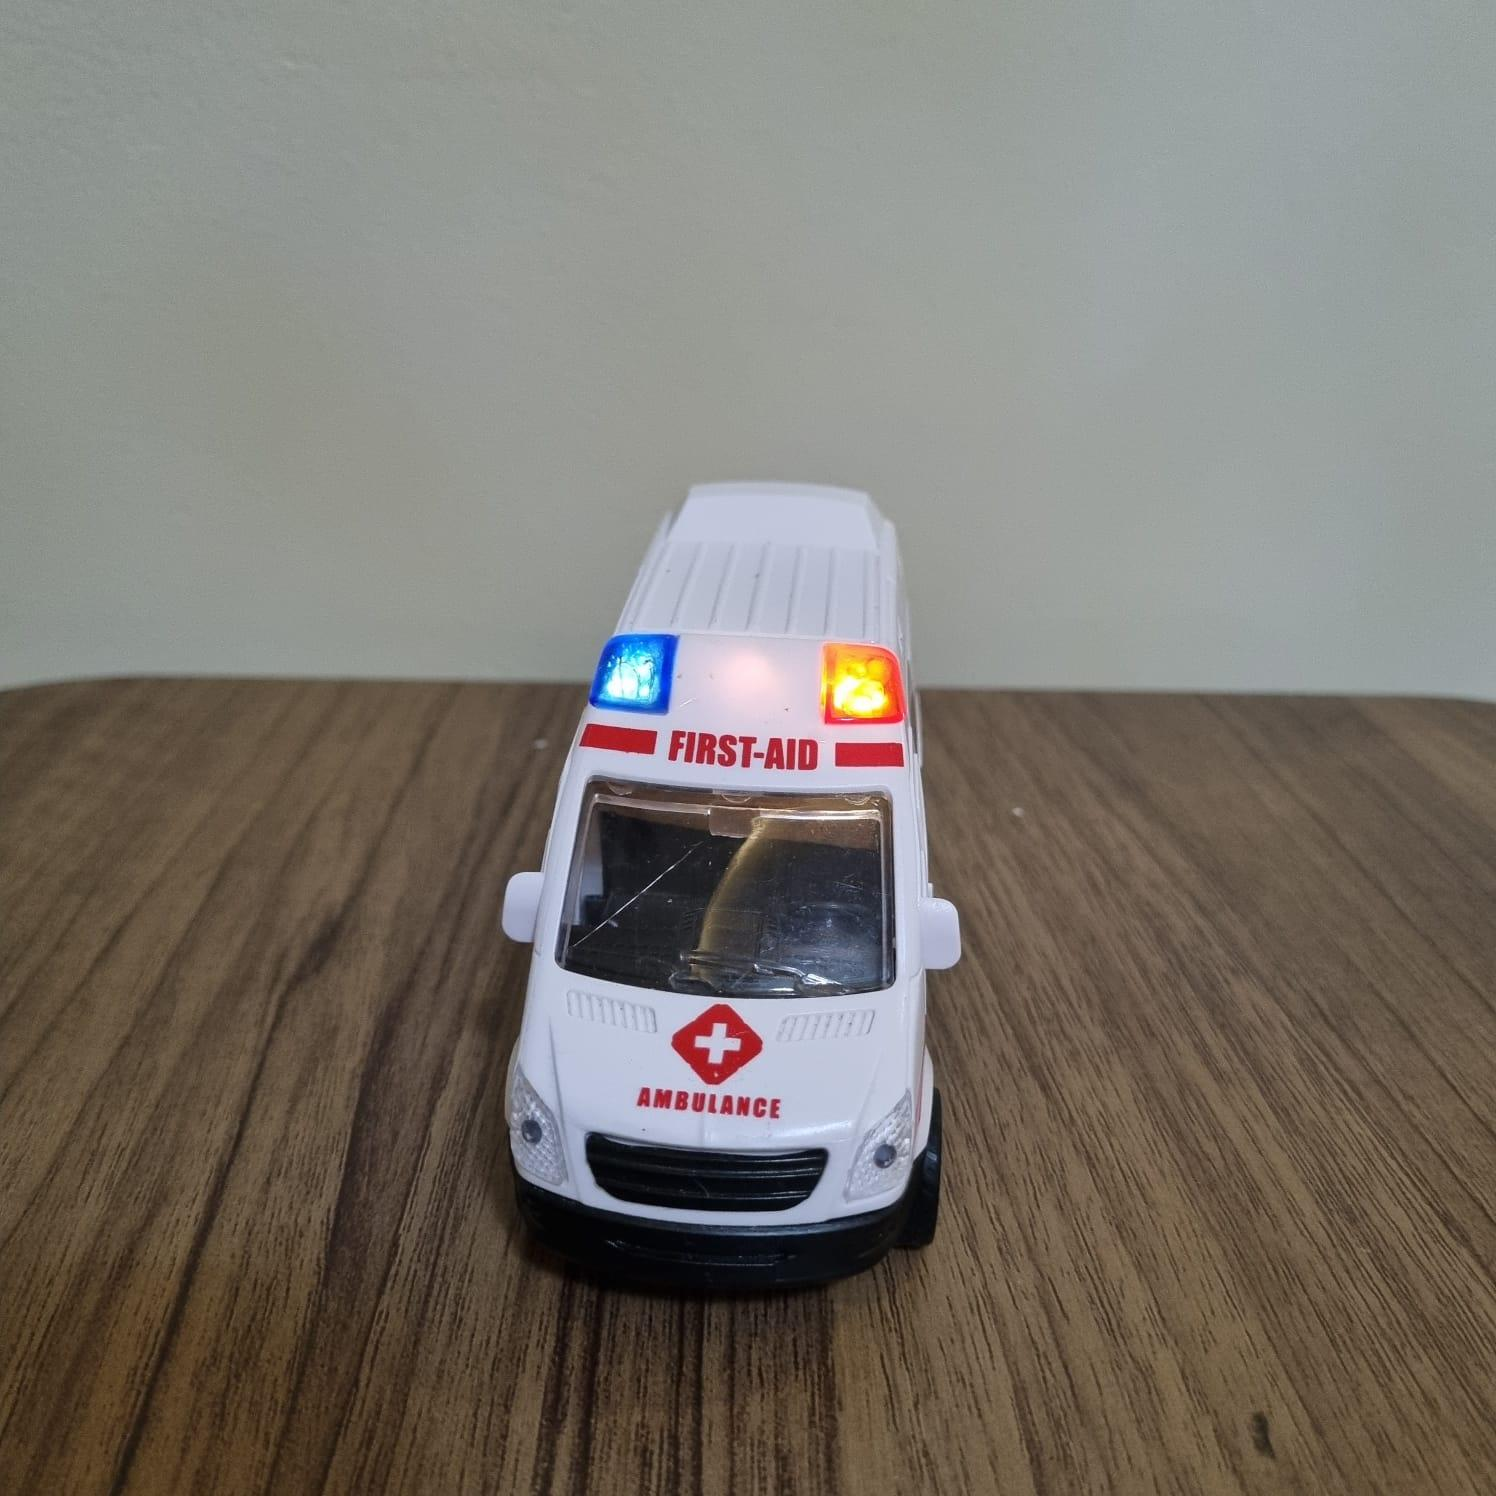ambulance_on: (496, 474, 963, 1275)
